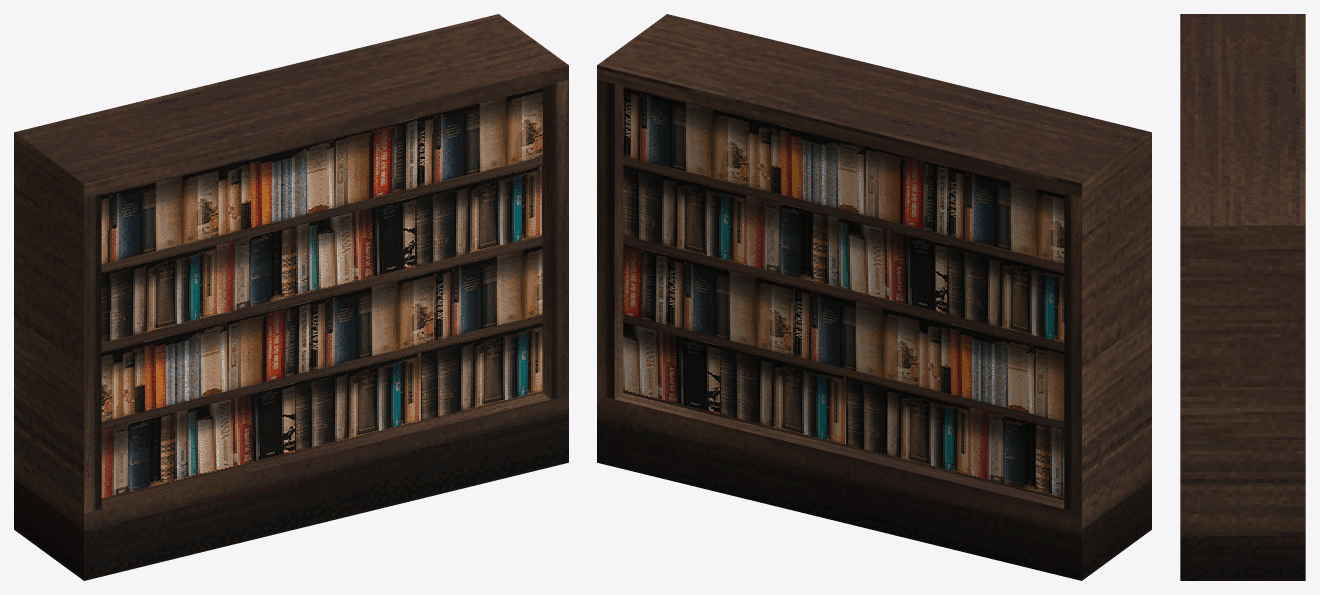
File: bookcase.glb
3 views of the same model, side by side, from view 1: azimuth 30°, elevation 25°; view 2: azimuth 150°, elevation 25°; view 3: azimuth 270°, elevation 25° (orthographic). The views are drawn at different scales.
Parts seen in each view (by area): view 1: bookcase; view 2: bookcase; view 3: bookcase.
Boxes of the visible parts, x1=… form: bookcase: x1=14, y1=14, x2=568, y2=580; bookcase: x1=597, y1=14, x2=1151, y2=580; bookcase: x1=1180, y1=14, x2=1305, y2=580.
Bounding box in the file's own units: 2.6 × 2.04 × 0.6513.
Materials: 1 (1 with a texture image).
